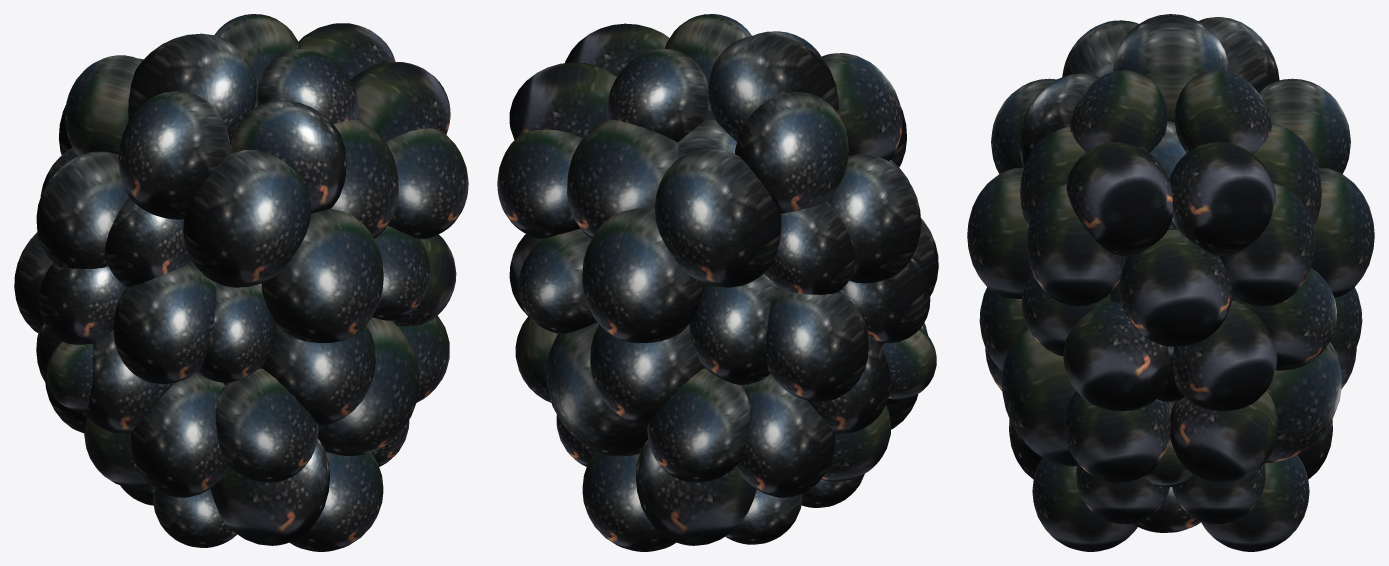
The model's file is BlackFruitBlackberry.fbx.
The picture shows the model from 3 angles, left to right: view 1: azimuth 30°, elevation 25°; view 2: azimuth 150°, elevation 25°; view 3: azimuth 270°, elevation 25°; orthographic projection. The views are drawn at different scales.
Visible parts, largest first — view 1: Blackberry; view 2: Blackberry; view 3: Blackberry.
Part boxes in pixels (x1,y1,x2,y2): Blackberry: [14, 14, 468, 551]; Blackberry: [497, 14, 938, 551]; Blackberry: [967, 14, 1374, 551].
Bounding box in the file's own units: 0.0356 × 0.0322 × 0.0424.
Materials: 1 (1 with a texture image).
